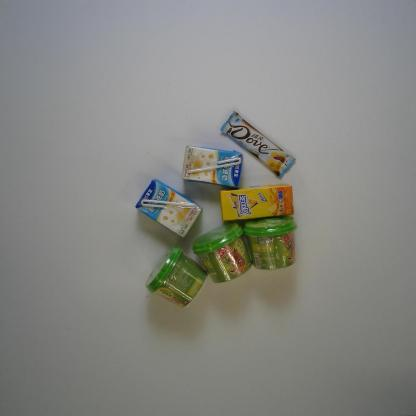Chocolate: (219, 109, 297, 181)
Drink: (220, 184, 295, 221)
Instant Drink: (144, 244, 208, 308), (192, 222, 252, 284), (242, 215, 298, 271)
Milk: (135, 178, 202, 238), (180, 145, 244, 188)
